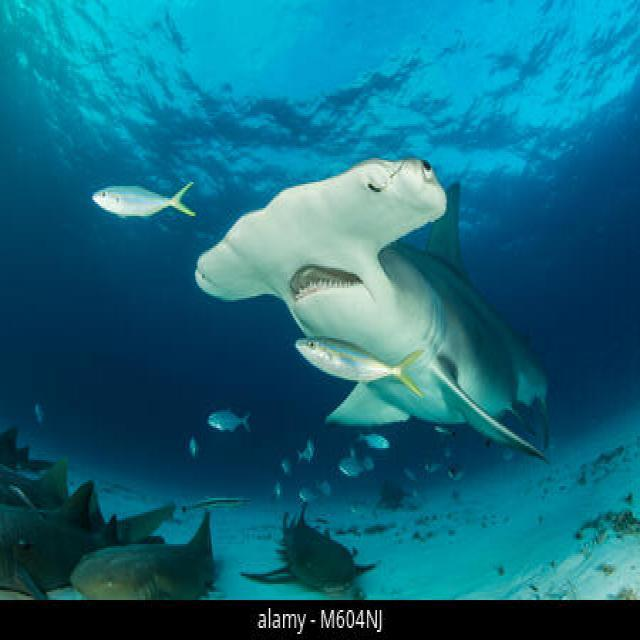Shark: (236, 468, 377, 598)
